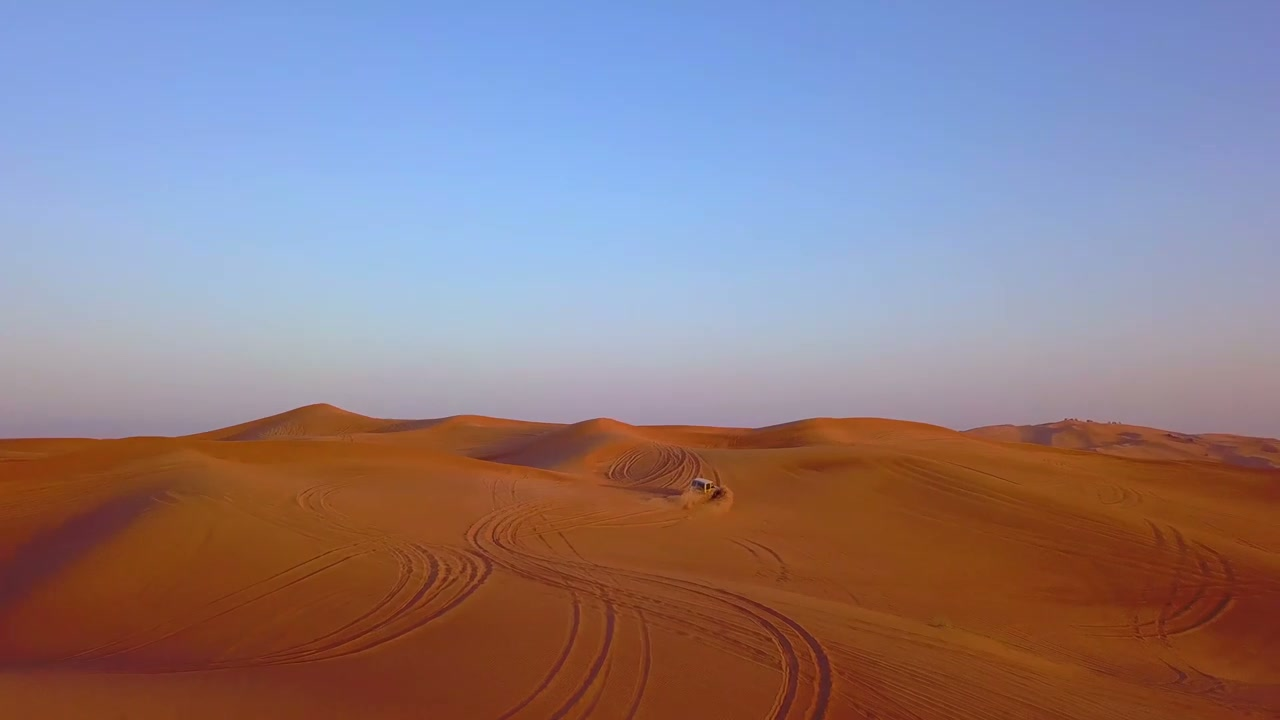vehicle_track: (57, 478, 492, 672), (466, 503, 831, 719), (59, 541, 491, 673), (58, 543, 373, 665), (885, 460, 1150, 570), (253, 543, 490, 664), (1087, 521, 1237, 643), (500, 593, 618, 717), (497, 596, 581, 719), (548, 601, 616, 719), (605, 443, 715, 487), (504, 544, 602, 591), (521, 508, 677, 536), (625, 610, 651, 719), (732, 539, 791, 582), (1095, 483, 1141, 507)
